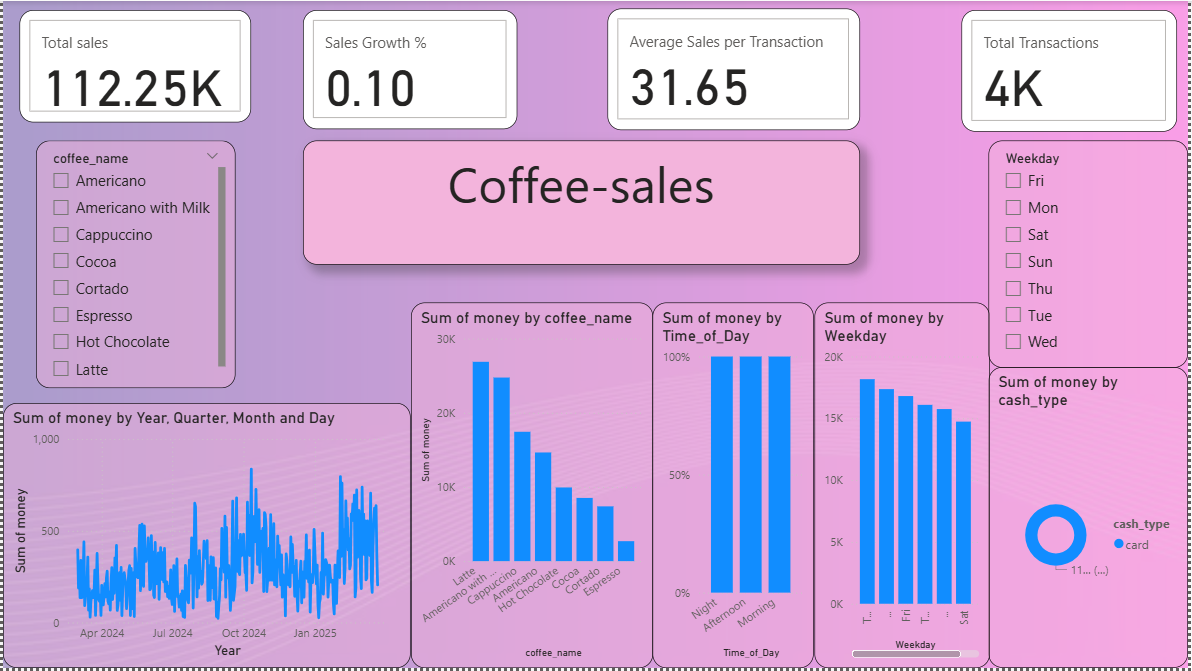

What the dashboard file says about the page in this screenshot:
{"tool":"powerbi","page":{"name":"Page 1","canvas":[1280,720],"ordinal":0},"visuals":[{"type":"cardVisual","fields":{"Data":["Coffe_sales csv.Total Sales"]},"box":[17.1,10,250,121.4],"z":0},{"type":"cardVisual","fields":{"Data":["Coffe_sales csv.Total Transactions"]},"box":[1034.2,9.6,232.9,131.5],"z":1000},{"type":"cardVisual","fields":{"Data":["Coffe_sales csv.Average Sales per Transaction"]},"box":[652.1,8.2,272.6,131.5],"z":2000},{"type":"cardVisual","fields":{"Data":["Coffe_sales csv.Sales Growth %"]},"box":[323.3,9.6,231.5,128.8],"z":3000},{"type":"lineChart","fields":{"Y":["Sum(Coffe_sales csv.money)"],"Category":["Coffe_sales csv.Date.Variation.Date Hierarchy.Year","Coffe_sales csv.Date.Variation.Date Hierarchy.Quarter","Coffe_sales csv.Date.Variation.Date Hierarchy.Month","Coffe_sales csv.Date.Variation.Date Hierarchy.Day"]},"box":[0,434.2,439.7,286.3],"z":4000},{"type":"clusteredColumnChart","fields":{"Category":["Coffe_sales csv.coffee_name"],"Y":["Sum(Coffe_sales csv.money)"]},"box":[439.7,326,261.6,394.5],"z":5000},{"type":"donutChart","fields":{"Category":["Coffe_sales csv.cash_type"],"Y":["Sum(Coffe_sales csv.money)"]},"box":[1064.4,395.9,215.1,324.7],"z":6000},{"type":"hundredPercentStackedColumnChart","fields":{"Category":["Coffe_sales csv.Time_of_Day"],"Y":["Sum(Coffe_sales csv.money)"]},"box":[701.4,326,174,394.5],"z":7000},{"type":"columnChart","fields":{"Y":["Sum(Coffe_sales csv.money)"],"Category":["Coffe_sales csv.Weekday"]},"box":[875.3,326,189,394.5],"z":8000},{"type":"slicer","fields":{"Values":["Coffe_sales csv.coffee_name"]},"box":[35.6,150.7,215.1,267.1],"z":9000},{"type":"slicer","fields":{"Values":["Coffe_sales csv.Weekday"]},"box":[1064.4,150.7,215.1,245.2],"z":10000},{"type":"textbox","box":[323.3,150.7,601.4,134.2],"z":11000}]}

Visuals, with their boxes in screenshot pixels (x1, y1, x2, y2), scaled from the page's 1280x720 canvas onto the 1192x671 screenshot:
cardVisual - Coffe_sales csv.Total Sales: box=[16, 9, 249, 122]
cardVisual - Coffe_sales csv.Total Transactions: box=[963, 9, 1180, 131]
cardVisual - Coffe_sales csv.Average Sales per Transaction: box=[607, 8, 861, 130]
cardVisual - Coffe_sales csv.Sales Growth %: box=[301, 9, 517, 129]
lineChart - Sum(Coffe_sales csv.money) x Coffe_sales csv.Date.Variation.Date Hierarchy.Year: box=[0, 405, 409, 670]
clusteredColumnChart - Coffe_sales csv.coffee_name x Sum(Coffe_sales csv.money): box=[409, 304, 653, 670]
donutChart - Coffe_sales csv.cash_type x Sum(Coffe_sales csv.money): box=[991, 369, 1191, 670]
hundredPercentStackedColumnChart - Coffe_sales csv.Time_of_Day x Sum(Coffe_sales csv.money): box=[653, 304, 815, 670]
columnChart - Sum(Coffe_sales csv.money) x Coffe_sales csv.Weekday: box=[815, 304, 991, 670]
slicer - Coffe_sales csv.coffee_name: box=[33, 140, 233, 389]
slicer - Coffe_sales csv.Weekday: box=[991, 140, 1191, 369]
textbox: box=[301, 140, 861, 266]
